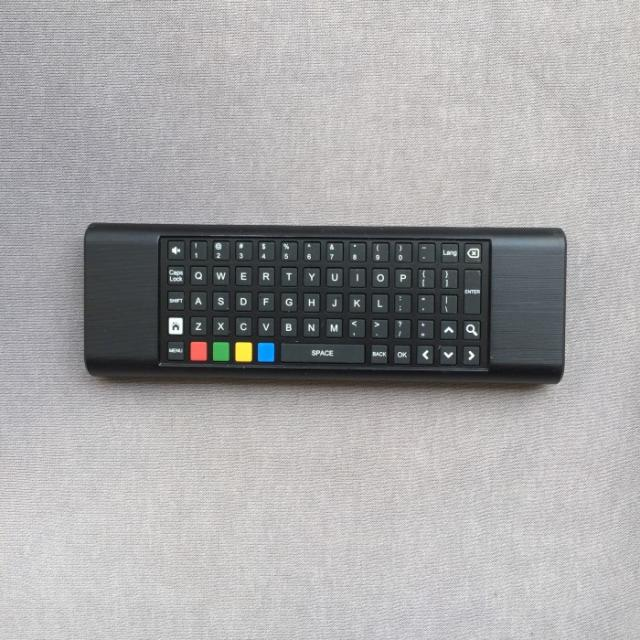remote: (80, 221, 571, 382)
